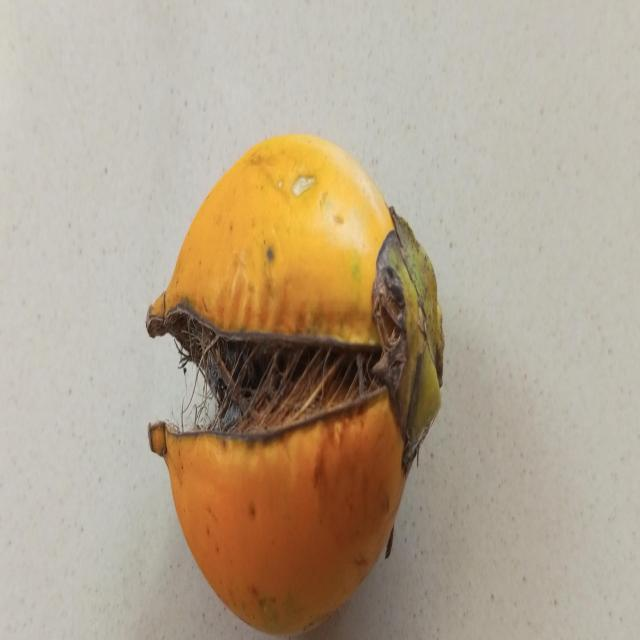damaged: (146, 134, 444, 635)
